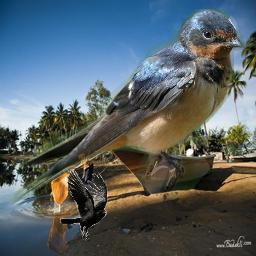Crow: (60, 169, 108, 242)
Swallow: (9, 9, 245, 207)
